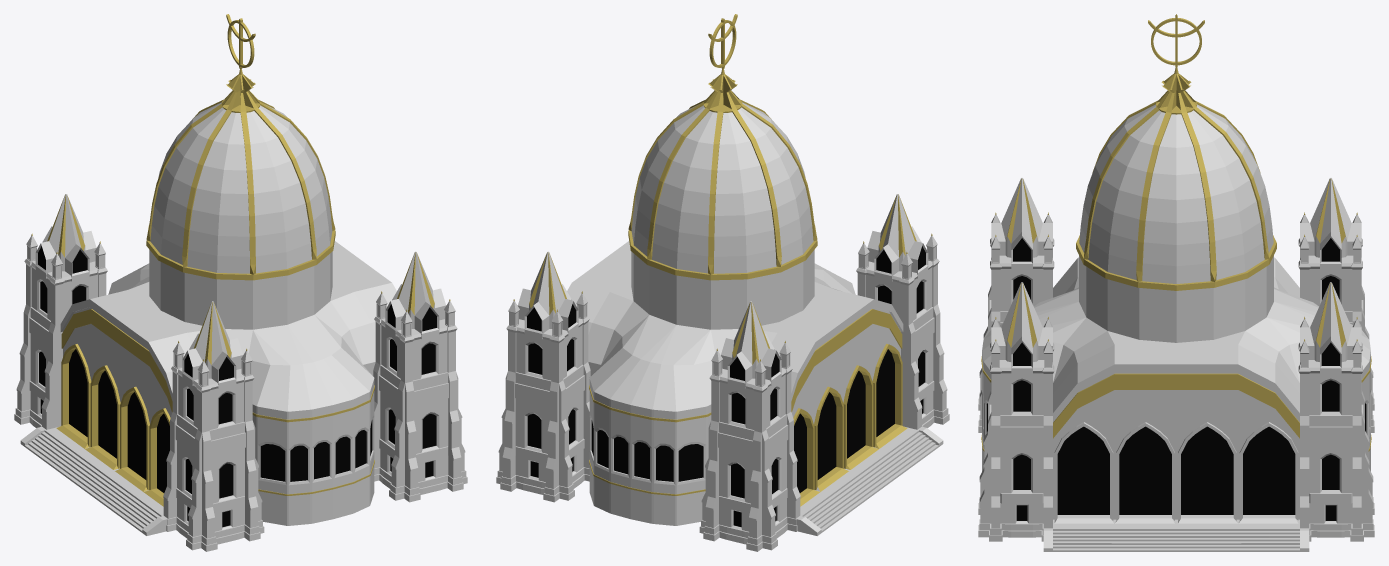
Rendered from MegaChurch.fbx.
The picture shows the model from 3 angles, left to right: view 1: azimuth 30°, elevation 25°; view 2: azimuth 150°, elevation 25°; view 3: azimuth 270°, elevation 25°; orthographic projection. The views are drawn at different scales.
Visible parts, largest first — view 1: MegaChurch; view 2: MegaChurch; view 3: MegaChurch.
Boxes of the visible parts, x1,y1,x2,y2 form: MegaChurch: [14, 14, 467, 551]; MegaChurch: [496, 14, 949, 551]; MegaChurch: [978, 14, 1374, 551].
Bounding box in the file's own units: 1240 × 1284 × 1631.
